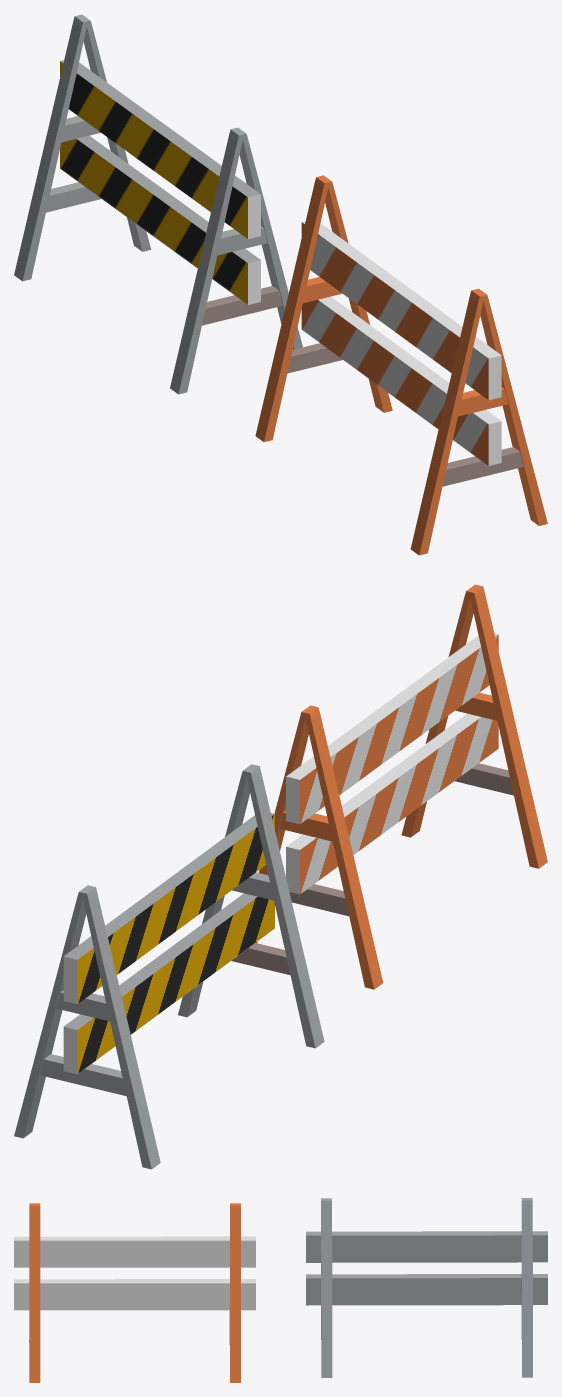
Rendered from Obstacles.fbx.
3 views of the same model, one above another, from view 1: azimuth 30°, elevation 25°; view 2: azimuth 150°, elevation 25°; view 3: azimuth 270°, elevation 25° (orthographic). The views are drawn at different scales.
Visible parts, largest first — view 1: Sign01, Sign02; view 2: Sign02, Sign01; view 3: Sign01, Sign02.
Boxes of the visible parts, <box> form: Sign01: <box>255,175,547,555</box>; Sign02: <box>14,14,302,394</box>; Sign02: <box>14,764,324,1169</box>; Sign01: <box>256,584,547,989</box>; Sign01: <box>14,1203,255,1382</box>; Sign02: <box>306,1198,547,1377</box>.
Bounding box in the file's own units: 1.45 × 2.32 × 7.1.
